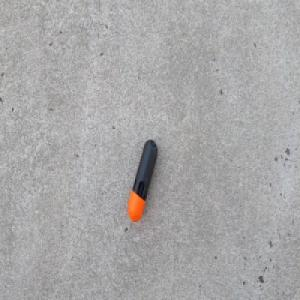PlasticPart: (126, 137, 158, 222)
